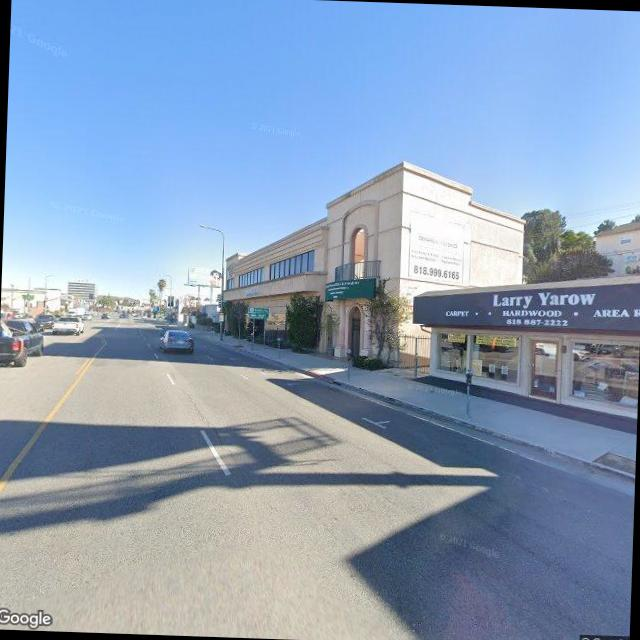pothole: (167, 373, 239, 466)
